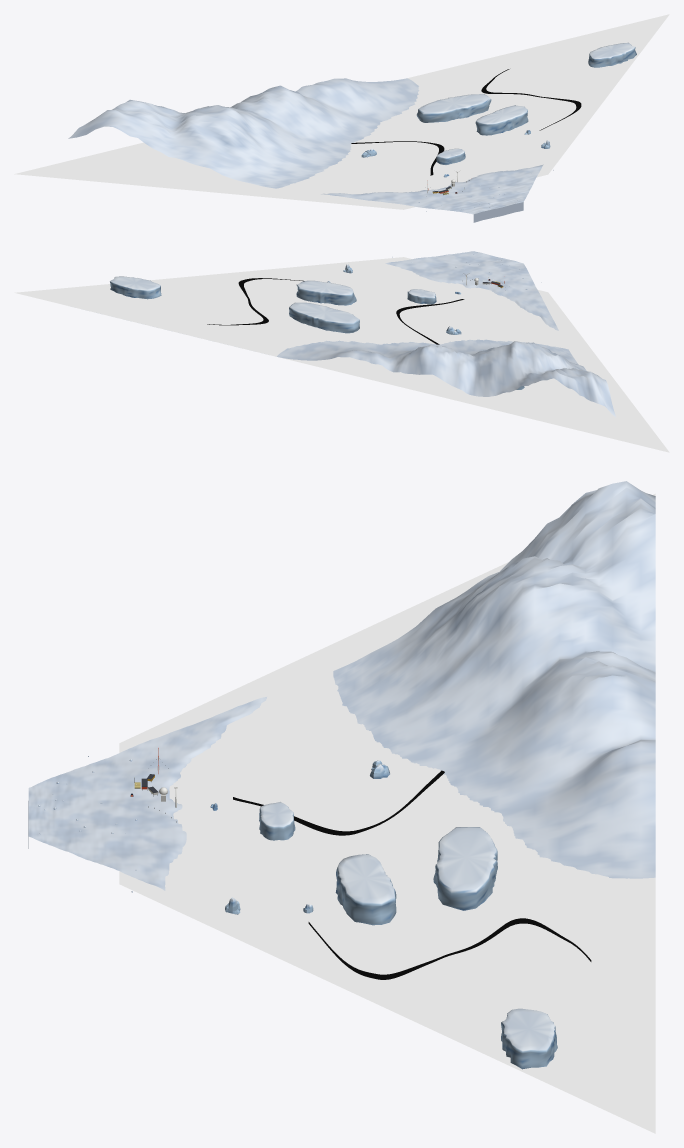
The model's file is backdrop_4.glb.
The picture shows the model from 3 angles, top to bottom: view 1: azimuth 30°, elevation 25°; view 2: azimuth 150°, elevation 25°; view 3: azimuth 270°, elevation 25°; orthographic projection. The views are drawn at different scales.
Parts seen in each view (by area): view 1: mid_seaice, mid_snowfield, mid_bergs, mid_leads, near_lip; view 2: mid_seaice, mid_snowfield, mid_bergs, mid_leads; view 3: mid_seaice, mid_snowfield, mid_bergs, mid_leads.
Boxes of the visible parts, bbox=[...] form: mid_seaice: bbox=[14, 14, 669, 209]; mid_snowfield: bbox=[68, 78, 543, 214]; mid_bergs: bbox=[361, 42, 636, 177]; mid_leads: bbox=[351, 69, 581, 175]; near_lip: bbox=[473, 202, 523, 222]; mid_seaice: bbox=[14, 257, 669, 452]; mid_snowfield: bbox=[276, 251, 615, 416]; mid_bergs: bbox=[110, 264, 524, 389]; mid_leads: bbox=[207, 278, 464, 344]; mid_seaice: bbox=[119, 493, 655, 1133]; mid_snowfield: bbox=[28, 481, 655, 890]; mid_bergs: bbox=[210, 760, 557, 1069]; mid_leads: bbox=[233, 770, 591, 979].
Bounding box in the file's own units: 2402 × 201 × 994.
